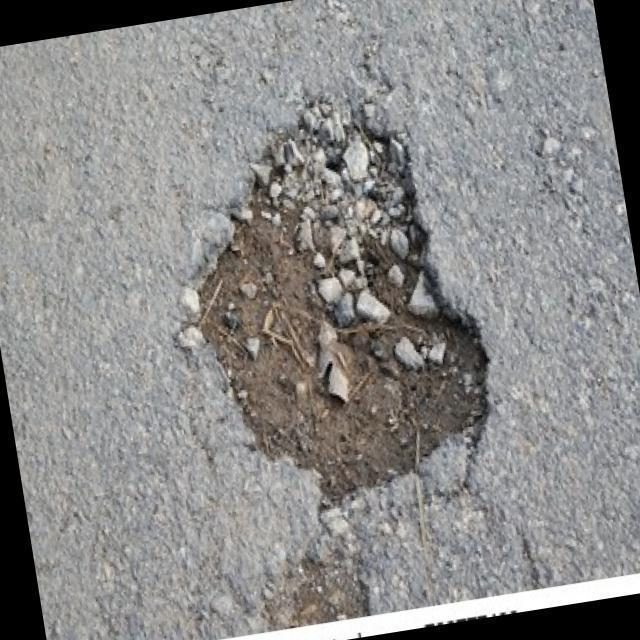pothole: (166, 74, 507, 525)
